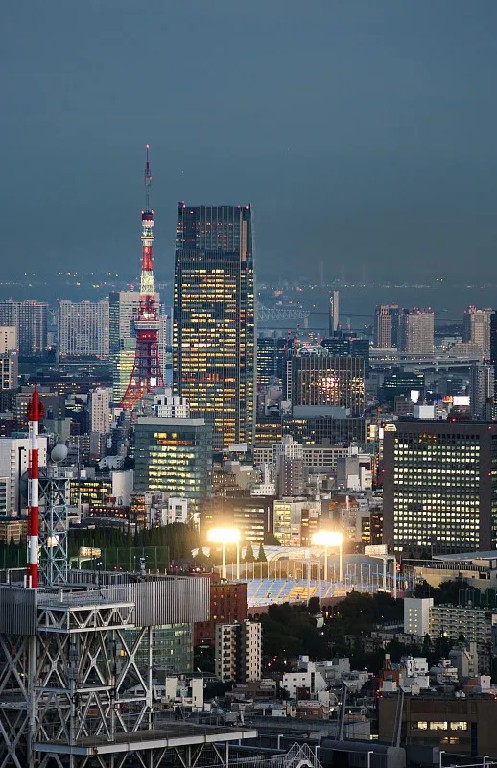Tokyo: (117, 139, 168, 418)
